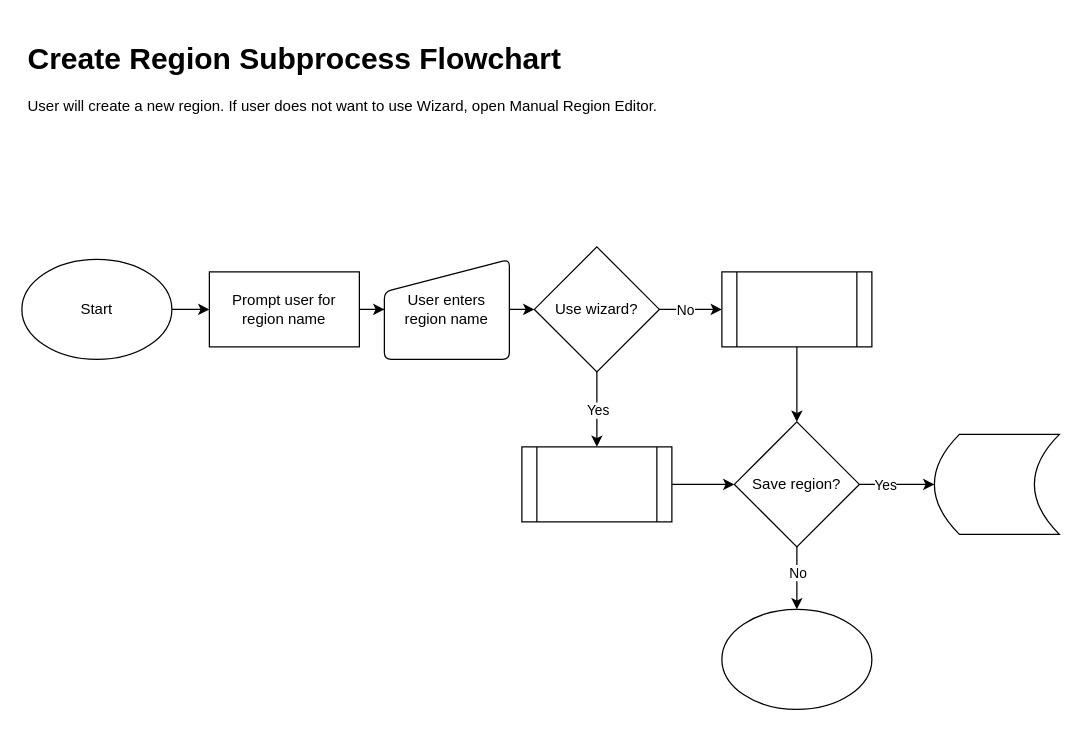
This 1081x731 diagram has some shape labels left out. Here are the shapes that lost their labels. From the top down, the box of each, then its label:
(721, 271, 872, 347): Manual region editor
(521, 446, 672, 522): New region wizard
(721, 608, 872, 709): End
